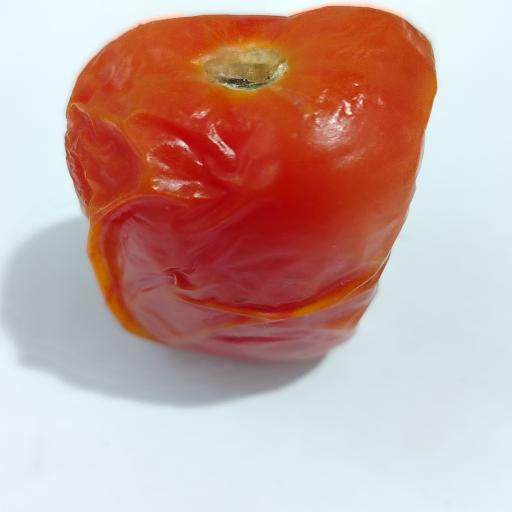spoiled: (66, 7, 436, 360)
